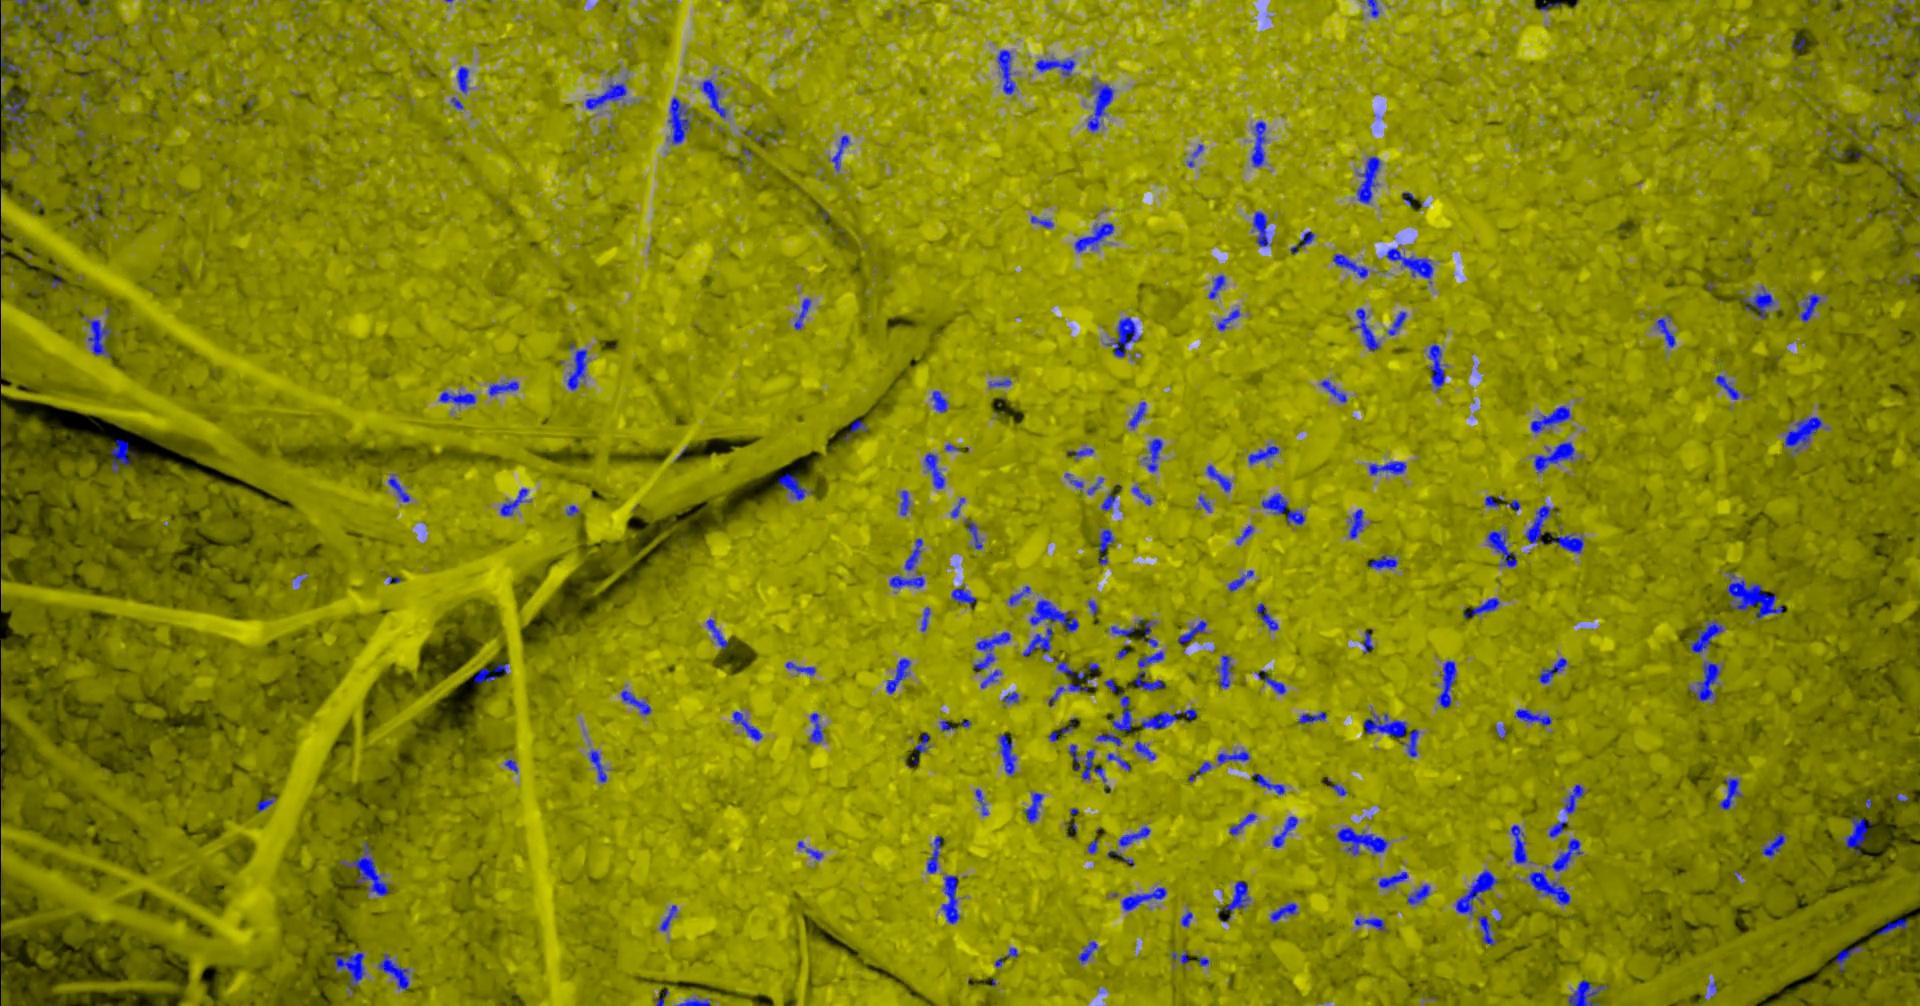ant: (343, 841, 390, 895), (1364, 713, 1420, 756), (1049, 655, 1092, 706), (1457, 869, 1498, 915), (1387, 248, 1434, 283), (1031, 598, 1079, 631), (974, 631, 1012, 672), (1262, 492, 1305, 525), (1338, 827, 1389, 855), (1530, 871, 1572, 904), (1070, 744, 1107, 781), (1090, 80, 1116, 131), (1785, 417, 1823, 452), (1107, 318, 1142, 357), (1535, 441, 1576, 473), (1352, 307, 1382, 351), (1135, 650, 1166, 691), (1547, 838, 1583, 871), (1220, 880, 1251, 920), (335, 950, 366, 989), (1357, 156, 1383, 203), (1693, 661, 1722, 701), (1143, 708, 1197, 729), (1690, 619, 1724, 653), (378, 953, 410, 989), (585, 83, 629, 109), (1076, 222, 1115, 251), (568, 340, 590, 390), (1526, 504, 1556, 542), (1488, 528, 1517, 567), (702, 77, 729, 118), (1531, 405, 1572, 432), (669, 97, 692, 144), (1745, 286, 1777, 319), (1123, 887, 1168, 909), (1, 25, 23, 74), (1846, 815, 1873, 854), (1, 89, 30, 123), (1570, 979, 1609, 1005), (88, 319, 113, 357), (778, 473, 813, 500), (1437, 661, 1457, 708), (1023, 626, 1054, 655), (734, 711, 764, 741), (888, 657, 912, 694), (1335, 253, 1370, 277), (943, 875, 961, 923), (998, 50, 1017, 94), (1272, 815, 1299, 847), (1430, 343, 1448, 390), (502, 486, 530, 514), (1539, 657, 1568, 683), (1112, 692, 1133, 730), (924, 452, 946, 488), (472, 663, 509, 683), (1178, 620, 1208, 645), (1550, 531, 1585, 553), (1719, 779, 1743, 809), (1512, 824, 1531, 862), (1465, 597, 1501, 617), (1252, 119, 1267, 166), (1208, 464, 1233, 492), (1258, 669, 1288, 694), (622, 690, 651, 714), (1516, 708, 1553, 727), (1036, 57, 1076, 75), (1001, 734, 1018, 774), (1657, 312, 1677, 347), (1144, 438, 1164, 473), (1253, 211, 1272, 246), (1798, 293, 1822, 321), (1836, 946, 1864, 970), (1253, 774, 1286, 794), (112, 438, 131, 473), (1120, 826, 1152, 846), (1050, 716, 1077, 741), (1763, 831, 1787, 857), (833, 135, 851, 170), (1564, 784, 1585, 814), (1717, 373, 1741, 399), (1322, 379, 1349, 401), (389, 474, 411, 500), (1256, 603, 1279, 630), (905, 539, 924, 570), (1230, 813, 1258, 835), (709, 619, 729, 648), (1025, 793, 1045, 822), (590, 749, 608, 782), (1250, 445, 1280, 464), (928, 835, 943, 873), (1479, 915, 1498, 945), (1139, 619, 1159, 647), (1229, 569, 1255, 591), (1100, 528, 1115, 564), (439, 391, 477, 405), (1218, 307, 1241, 330), (1291, 231, 1316, 253), (966, 520, 984, 549), (952, 588, 978, 608), (1271, 902, 1298, 921), (795, 298, 811, 329), (1219, 655, 1234, 688), (1129, 401, 1147, 429), (1189, 761, 1213, 781), (1408, 884, 1432, 904), (1, 124, 27, 144), (1370, 461, 1408, 474), (1877, 918, 1909, 934), (1380, 871, 1410, 888), (490, 380, 521, 395), (1350, 508, 1365, 539), (1218, 749, 1251, 763), (1389, 311, 1408, 335), (1370, 554, 1399, 569), (891, 575, 926, 588), (1010, 586, 1032, 605), (810, 713, 824, 743), (662, 904, 678, 930), (982, 669, 1003, 688), (1079, 941, 1098, 963), (787, 661, 817, 674), (1109, 753, 1131, 771), (1210, 274, 1227, 298), (977, 788, 990, 815), (1133, 486, 1153, 506), (1137, 741, 1157, 760), (1356, 917, 1385, 930), (1237, 525, 1255, 544), (1097, 733, 1124, 746), (1328, 779, 1349, 795), (933, 390, 949, 412), (1300, 711, 1328, 723), (916, 733, 931, 753), (257, 795, 277, 810), (458, 66, 470, 93), (1112, 625, 1139, 636), (14, 11, 36, 25), (1550, 821, 1568, 837), (1032, 215, 1055, 227), (1069, 447, 1095, 459), (952, 497, 966, 517), (1065, 473, 1084, 486), (1103, 492, 1117, 511), (1172, 950, 1191, 964), (1363, 631, 1375, 652), (1090, 478, 1105, 494), (1540, 0, 1563, 10), (1905, 108, 1920, 123), (1368, 0, 1382, 17), (851, 419, 869, 432), (922, 606, 931, 631), (677, 998, 712, 1005), (902, 490, 910, 514), (1793, 36, 1807, 51), (1200, 495, 1213, 512), (37, 0, 55, 11), (1182, 909, 1194, 927), (505, 760, 519, 774), (1486, 495, 1505, 506), (808, 847, 824, 859), (990, 379, 1013, 386), (1004, 691, 1020, 702), (1090, 838, 1100, 854)
